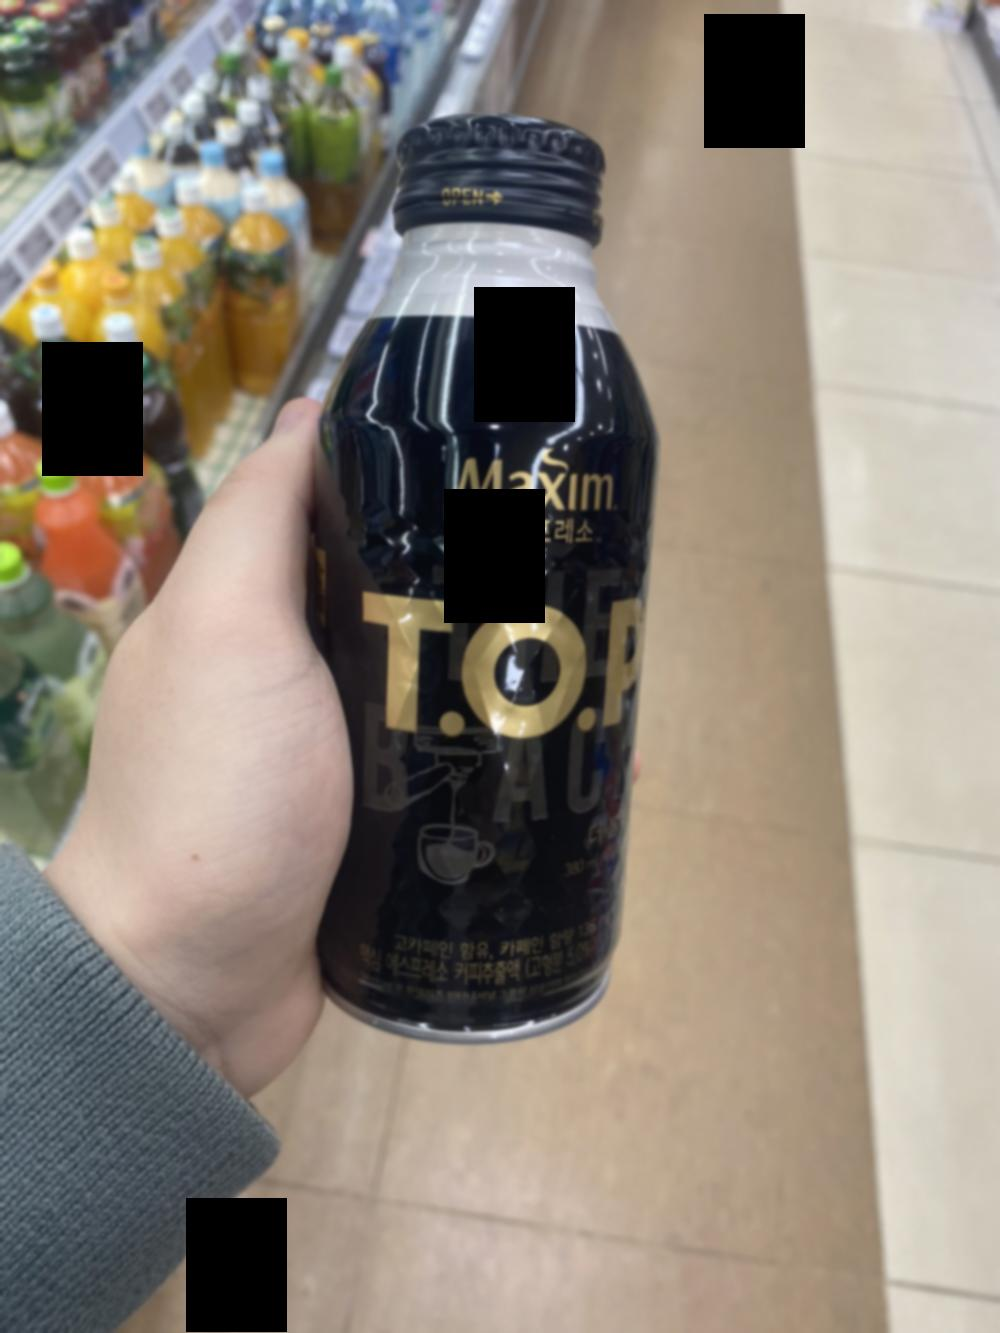TOP_black: (318, 97, 662, 1043)
